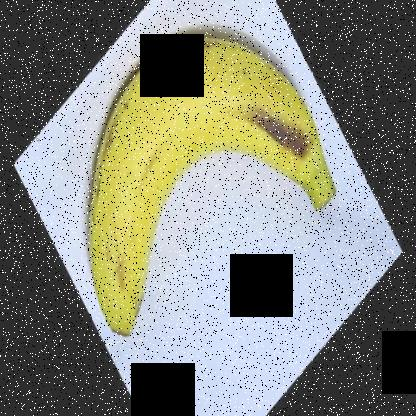freshripe: (78, 26, 341, 354)
